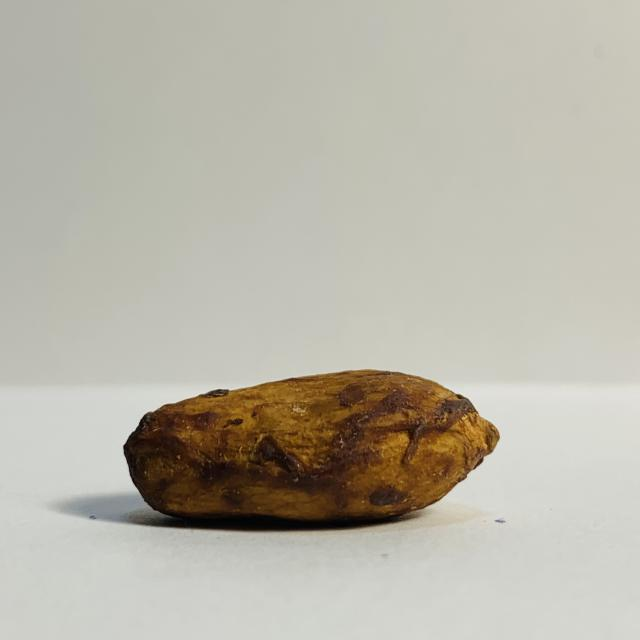Fine_cocoabeans: (0, 337, 603, 584)
